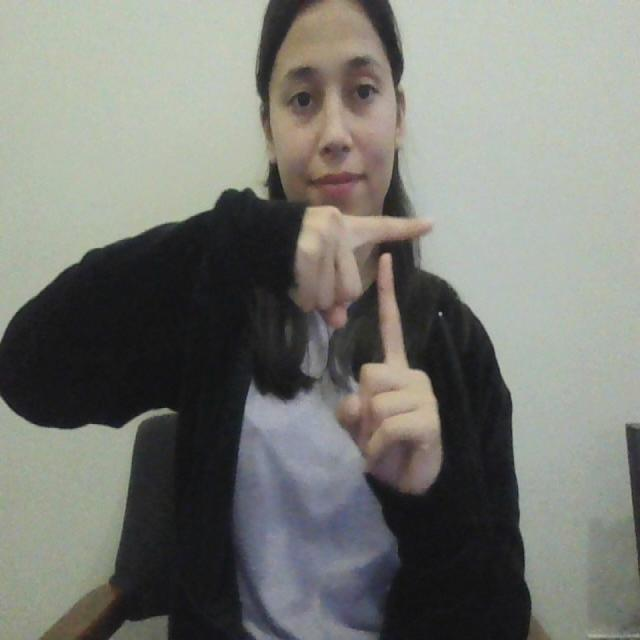Tesekkurler: (328, 197, 446, 392)
